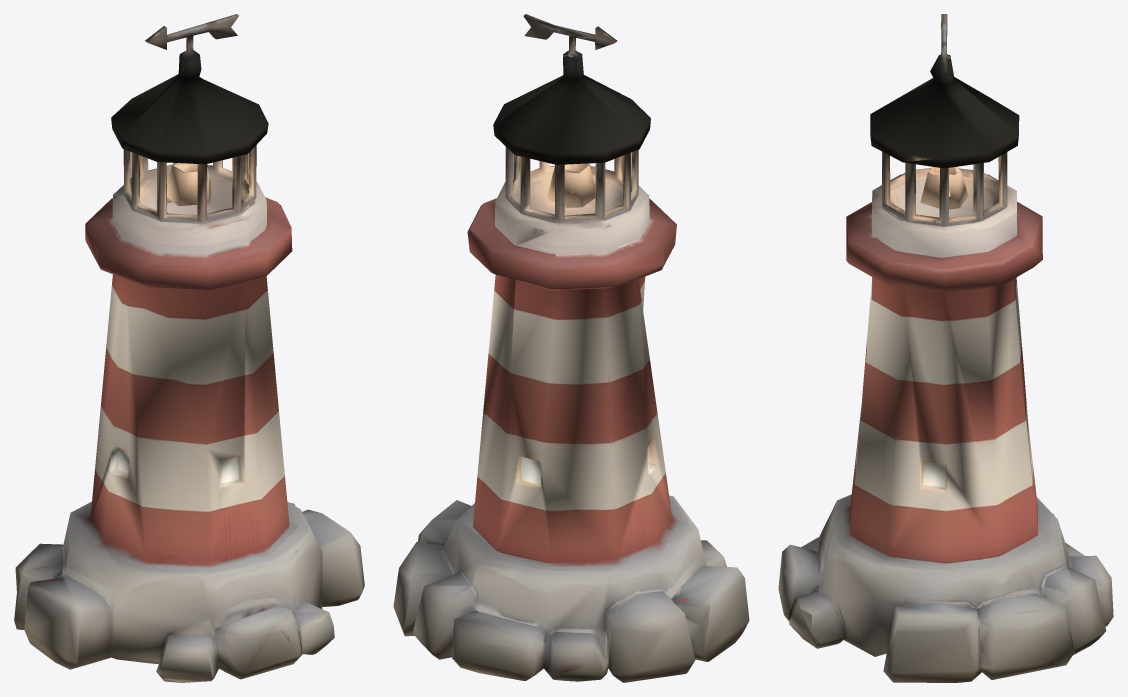
File: lighthouse.glb
3 renders of one model, left to right at view 1: azimuth 30°, elevation 25°; view 2: azimuth 150°, elevation 25°; view 3: azimuth 270°, elevation 25°, orthographic.
Parts seen in each view (by area): view 1: node_0; view 2: node_0; view 3: node_0.
Boxes of the visible parts, <box> form: node_0: <box>14,14,364,682</box>; node_0: <box>393,14,749,682</box>; node_0: <box>778,14,1113,682</box>.
Bounding box in the file's own units: 0.5563 × 1.06 × 0.547.
1 material, 1 textured.
